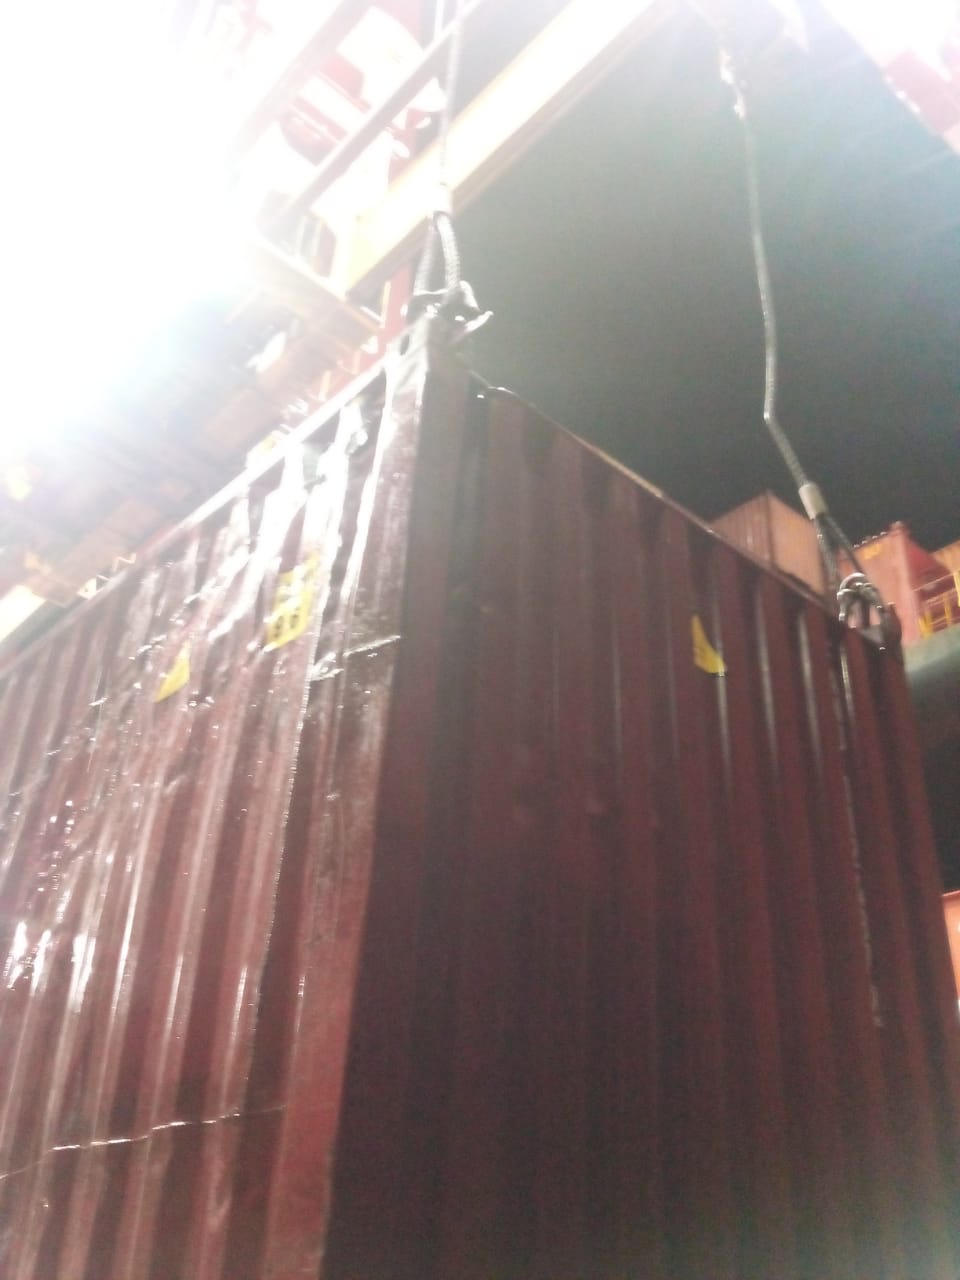bulged: (529, 760, 707, 870)
dented: (30, 433, 373, 885)
